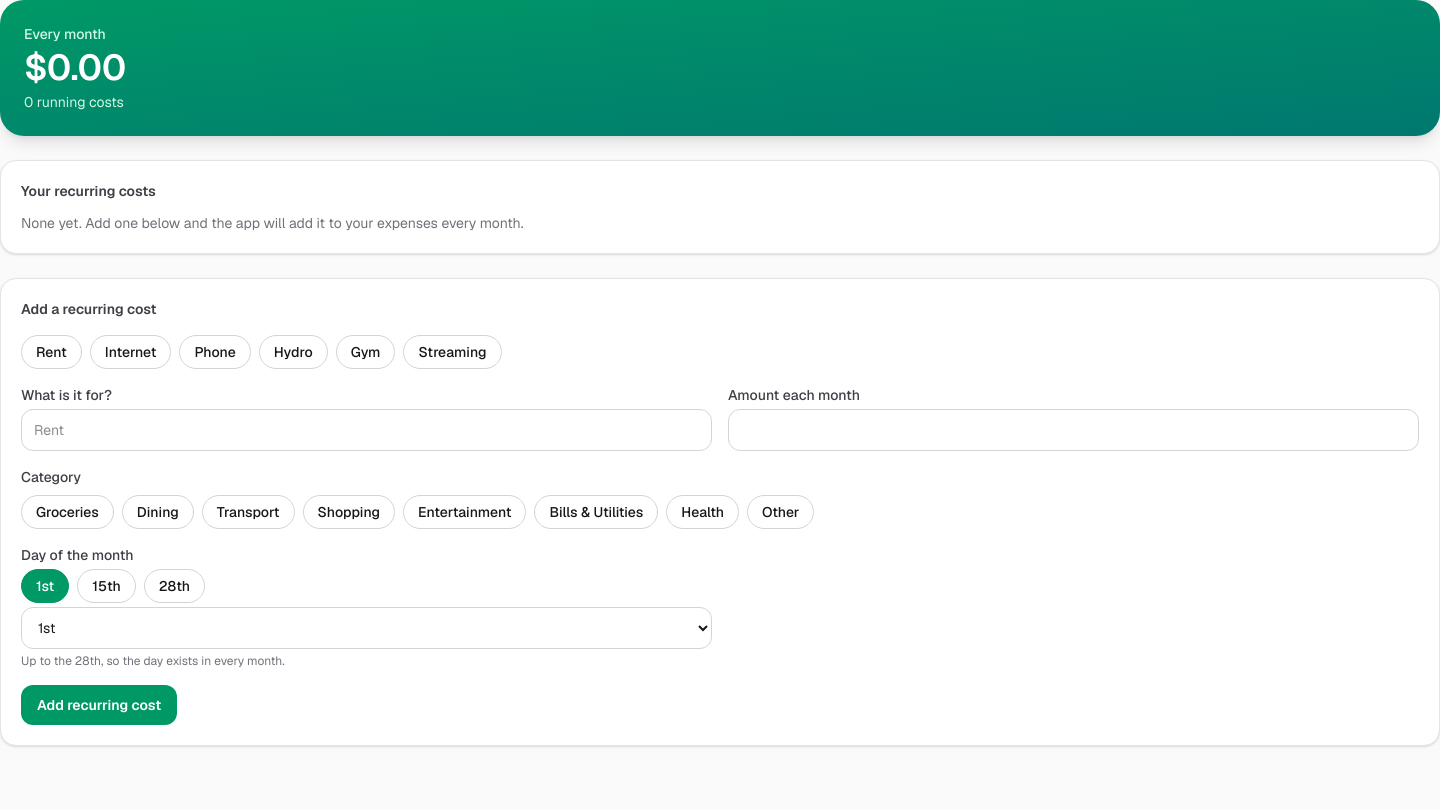
Scenario: a failed save shows the reason and keeps what was typed
In the field labelled "What is it for?": (366, 430) top-left (21, 409), bottom-right (712, 451), type "Hydro"
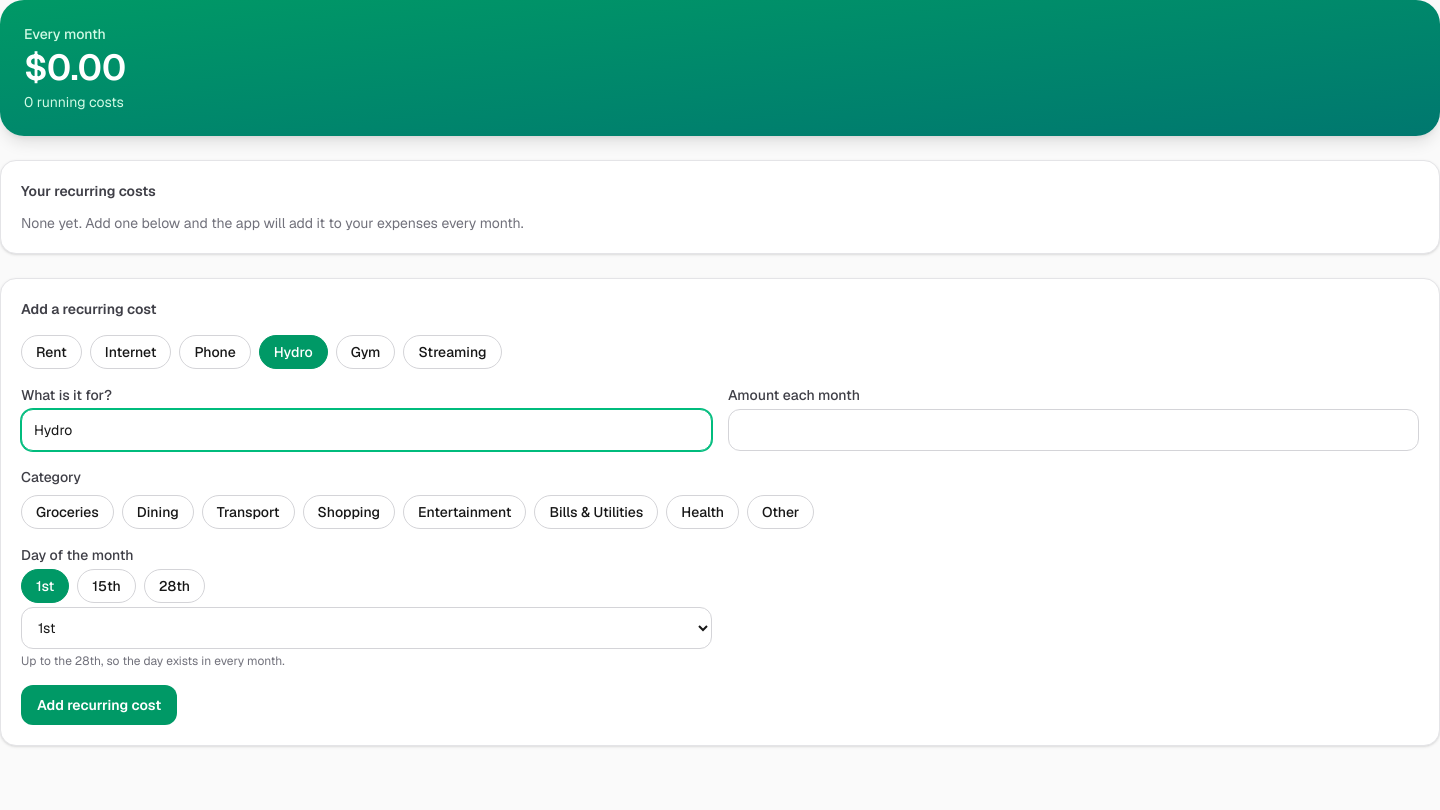
In the number field labelled "Amount each month": (1074, 430) top-left (728, 409), bottom-right (1419, 451), type "60"
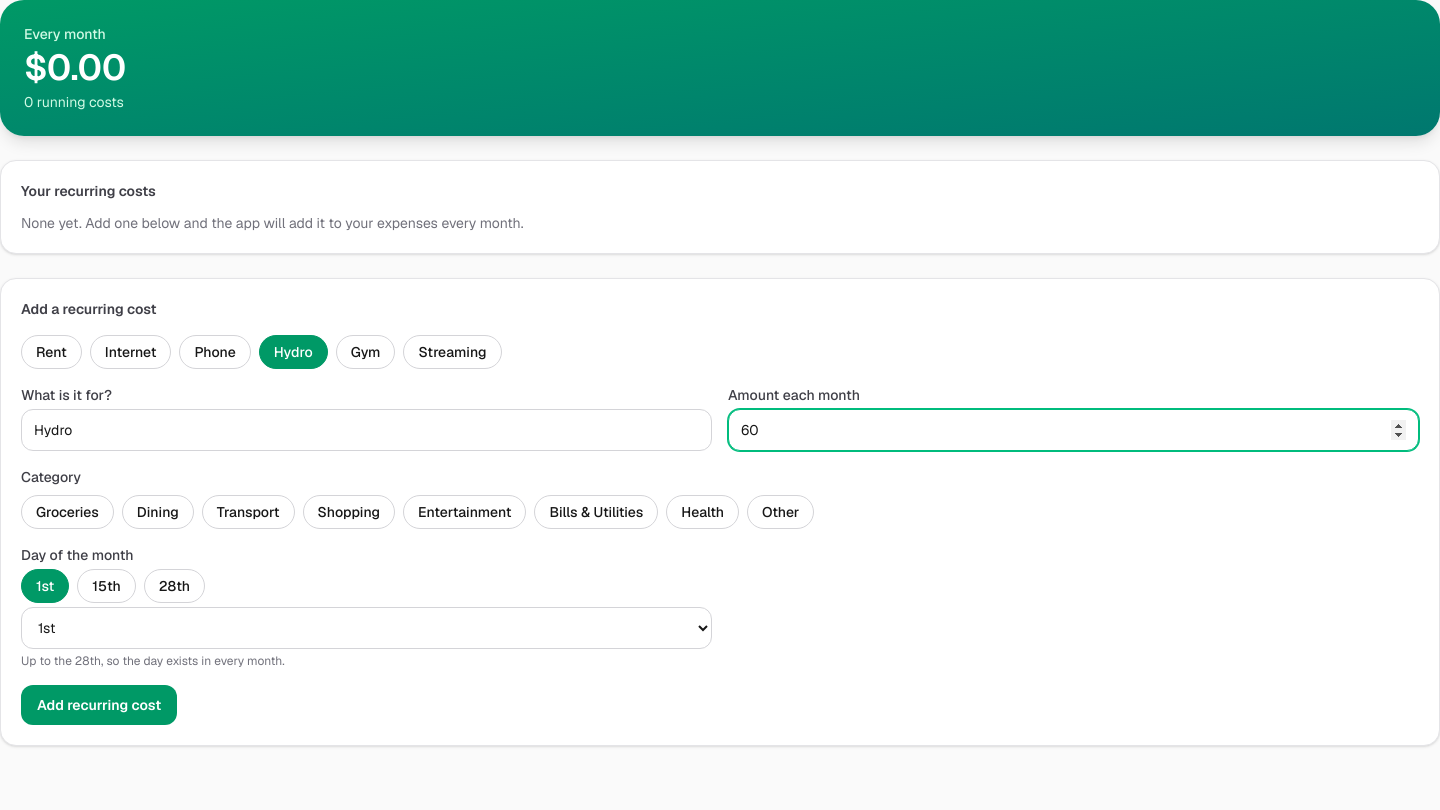
Click the button "Bills & Utilities": (596, 512) top-left (534, 495), bottom-right (658, 529)
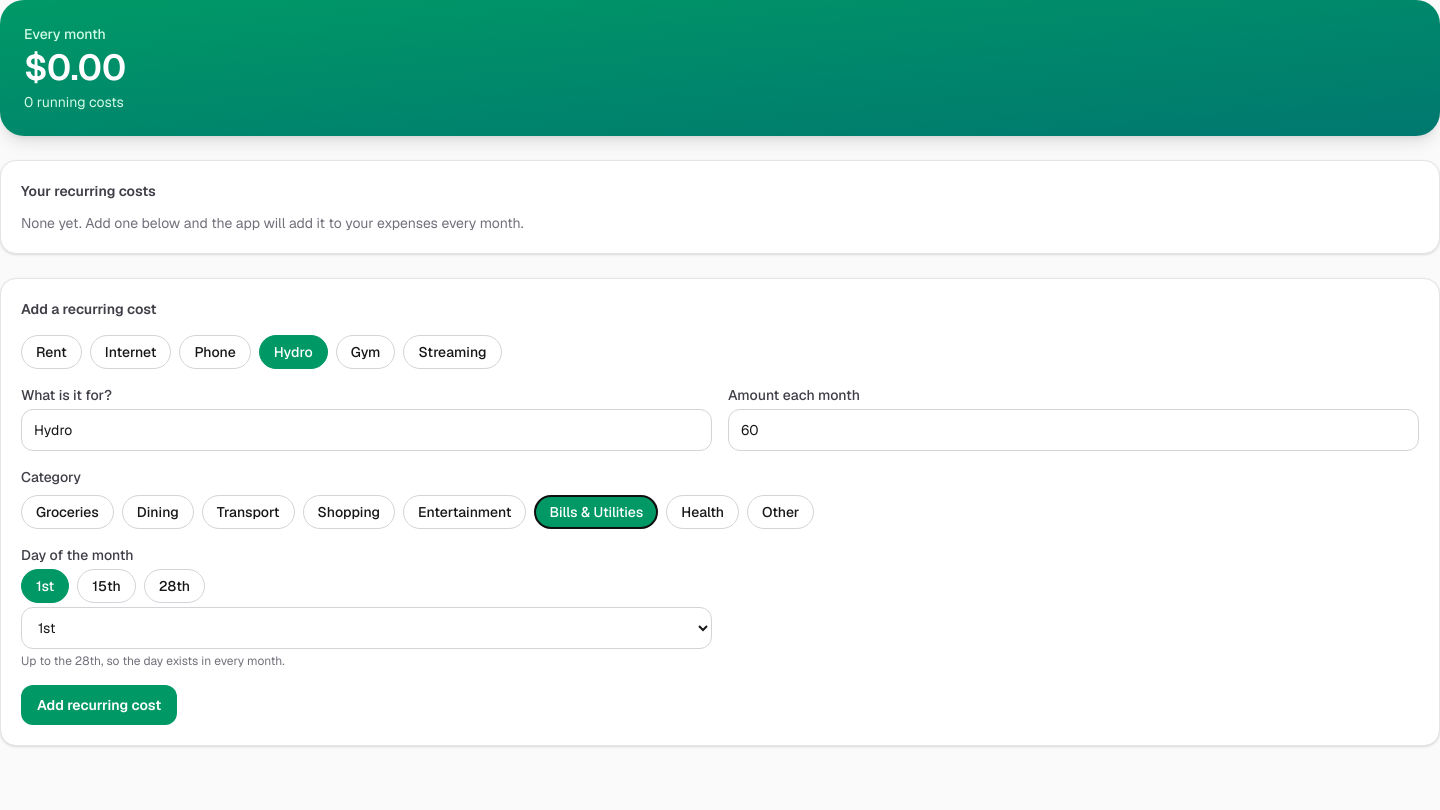
Click the button "Add recurring cost": (99, 705) top-left (21, 685), bottom-right (177, 725)
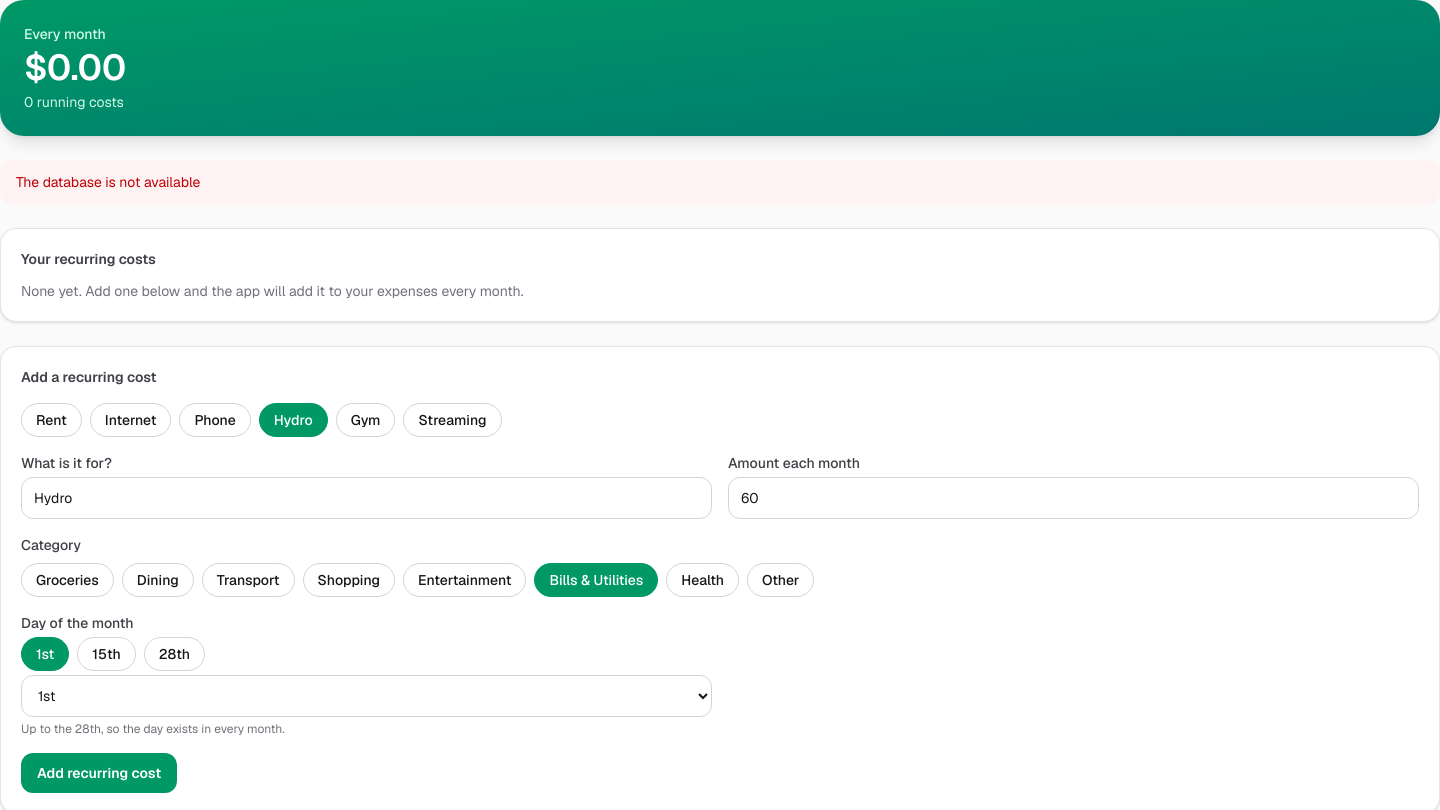
Expected: the message reads "The database is not available", top-left (16, 173), bottom-right (200, 191)
